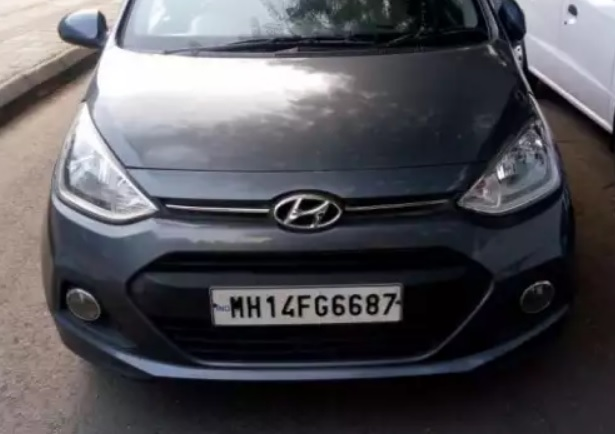licenseplate: (206, 286, 410, 326)
